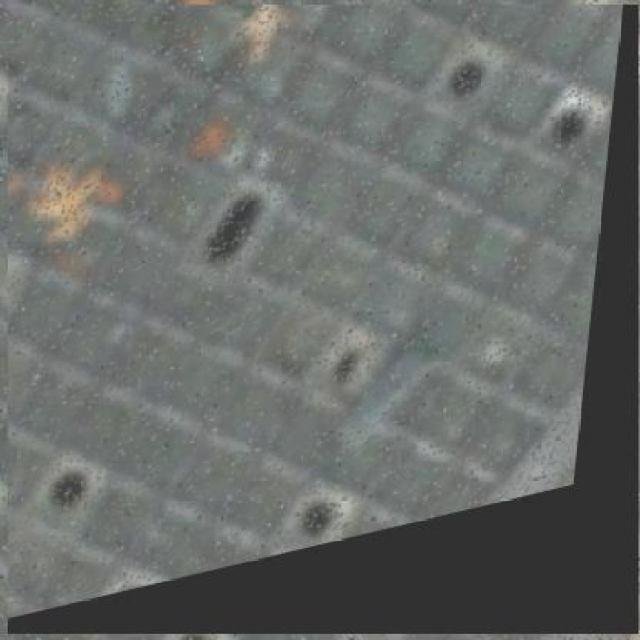Manhole: (7, 5, 638, 634)
